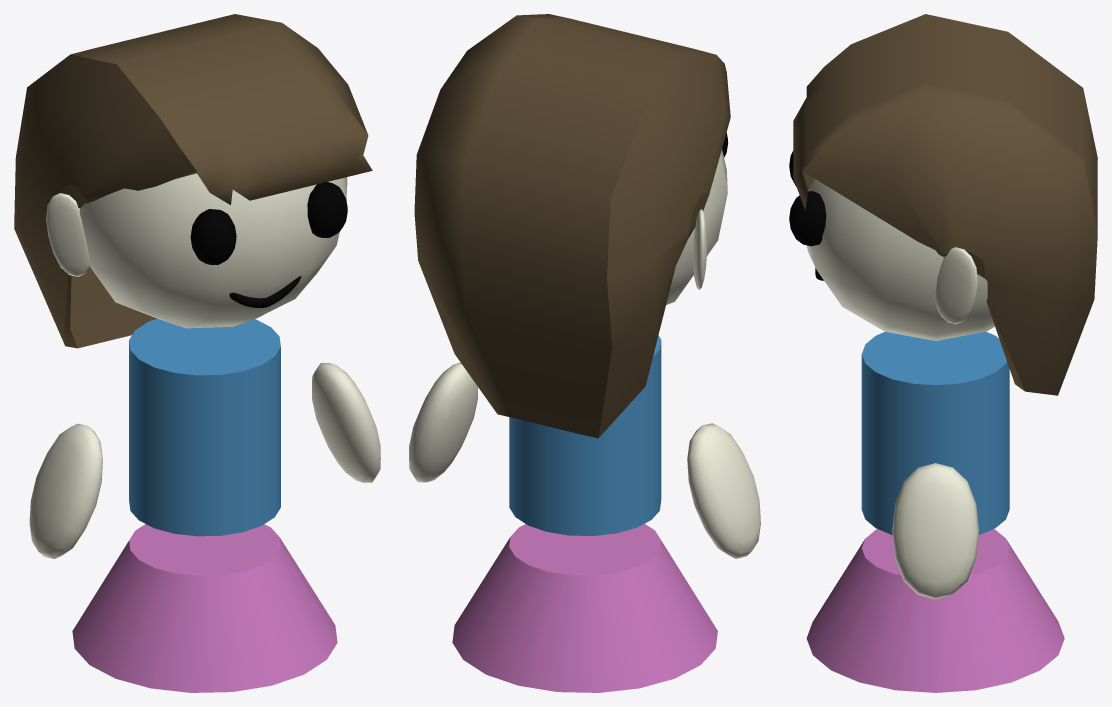
File: Mama.fbx
3 views of the same model, side by side, from view 1: azimuth 30°, elevation 25°; view 2: azimuth 150°, elevation 25°; view 3: azimuth 270°, elevation 25° (orthographic). The views are drawn at different scales.
Parts seen in each view (by area): view 1: pPlane1, Dress, Body, Head, Arm_Left1, Arm_Left, pCube2, Eye_Right, Eye_Left, Smile; view 2: pPlane1, Dress, Body, Arm_Left1, Arm_Left, Head, pCube2; view 3: pPlane1, Dress, Body, Head, Arm_Left, pCube1, Eye_Left.
Boxes of the visible parts, x1=… form: pPlane1: x1=14, y1=14, x2=372, y2=348; Dress: x1=72, y1=524, x2=337, y2=692; Body: x1=129, y1=318, x2=280, y2=536; Head: x1=79, y1=173, x2=347, y2=328; Arm_Left1: x1=29, y1=423, x2=102, y2=558; Arm_Left: x1=312, y1=363, x2=380, y2=482; pCube2: x1=46, y1=193, x2=90, y2=276; Eye_Right: x1=190, y1=209, x2=236, y2=264; Eye_Left: x1=307, y1=182, x2=347, y2=237; Smile: x1=229, y1=276, x2=301, y2=307; pPlane1: x1=414, y1=14, x2=730, y2=438; Dress: x1=452, y1=523, x2=717, y2=692; Body: x1=509, y1=335, x2=661, y2=535; Arm_Left1: x1=687, y1=423, x2=760, y2=558; Arm_Left: x1=409, y1=362, x2=477, y2=482; Head: x1=666, y1=149, x2=727, y2=304; pCube2: x1=693, y1=209, x2=706, y2=289; pPlane1: x1=793, y1=14, x2=1097, y2=395; Dress: x1=806, y1=529, x2=1064, y2=692; Body: x1=861, y1=331, x2=1009, y2=534; Head: x1=806, y1=179, x2=994, y2=340; Arm_Left: x1=892, y1=463, x2=978, y2=599; pCube1: x1=935, y1=247, x2=977, y2=324; Eye_Left: x1=789, y1=191, x2=826, y2=246.
Size of the model in its own units: 1.21 by 2.06 by 0.9921.
